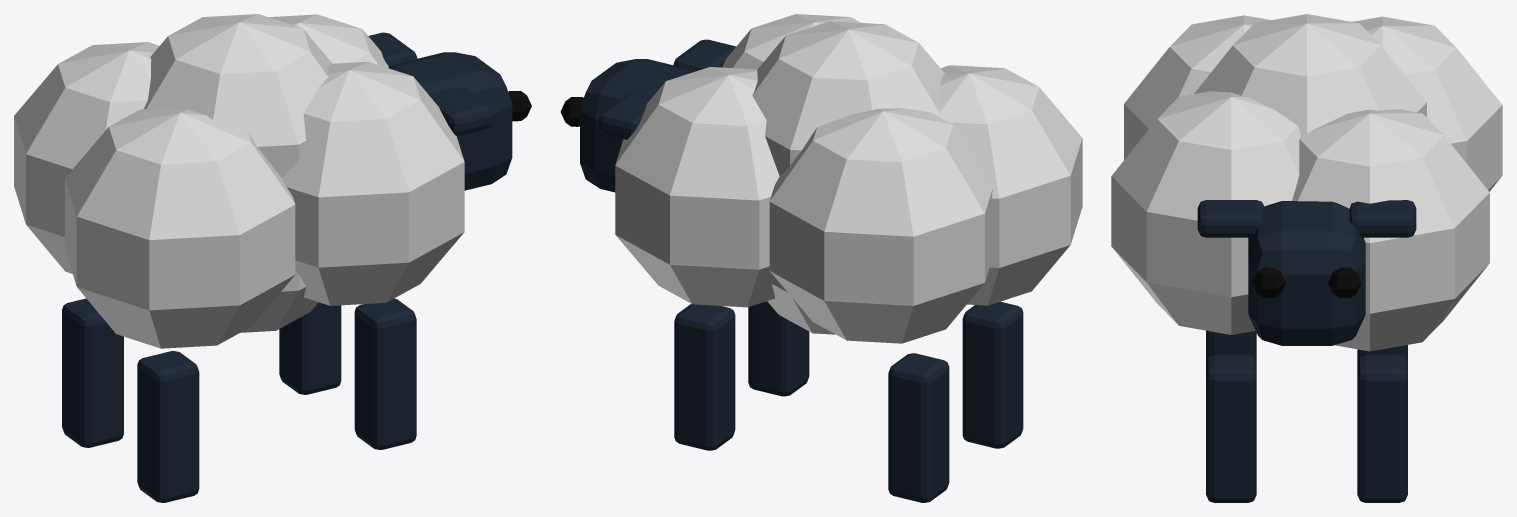
Rendered from an-sheep-D9VfvFnI.glb.
3 renders of one model, left to right at view 1: azimuth 30°, elevation 25°; view 2: azimuth 150°, elevation 25°; view 3: azimuth 270°, elevation 25°, orthographic.
Parts seen in each view (by area): view 1: an-sheep; view 2: an-sheep; view 3: an-sheep.
Boxes of the visible parts, x1,y1,x2,y2 form: an-sheep: [14, 14, 531, 502]; an-sheep: [560, 14, 1082, 502]; an-sheep: [1111, 14, 1502, 502].
Size of the model in its own units: 0.128 by 0.11 by 0.0931.
